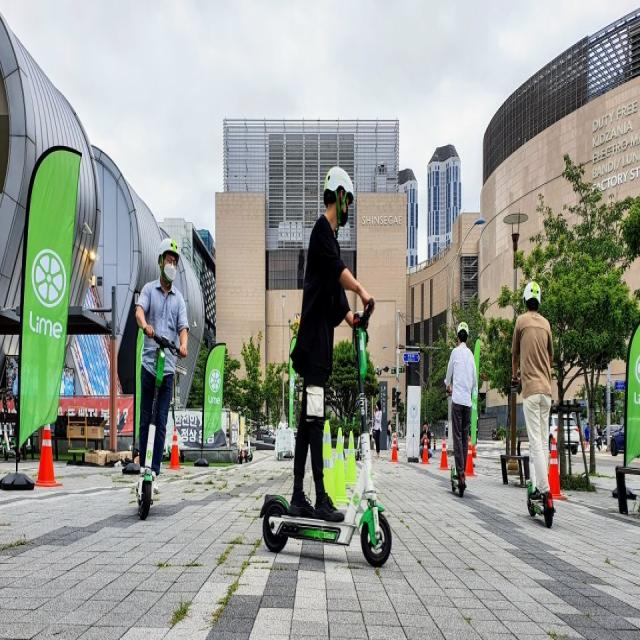helmet: (250, 122, 408, 596), (111, 200, 205, 534)
